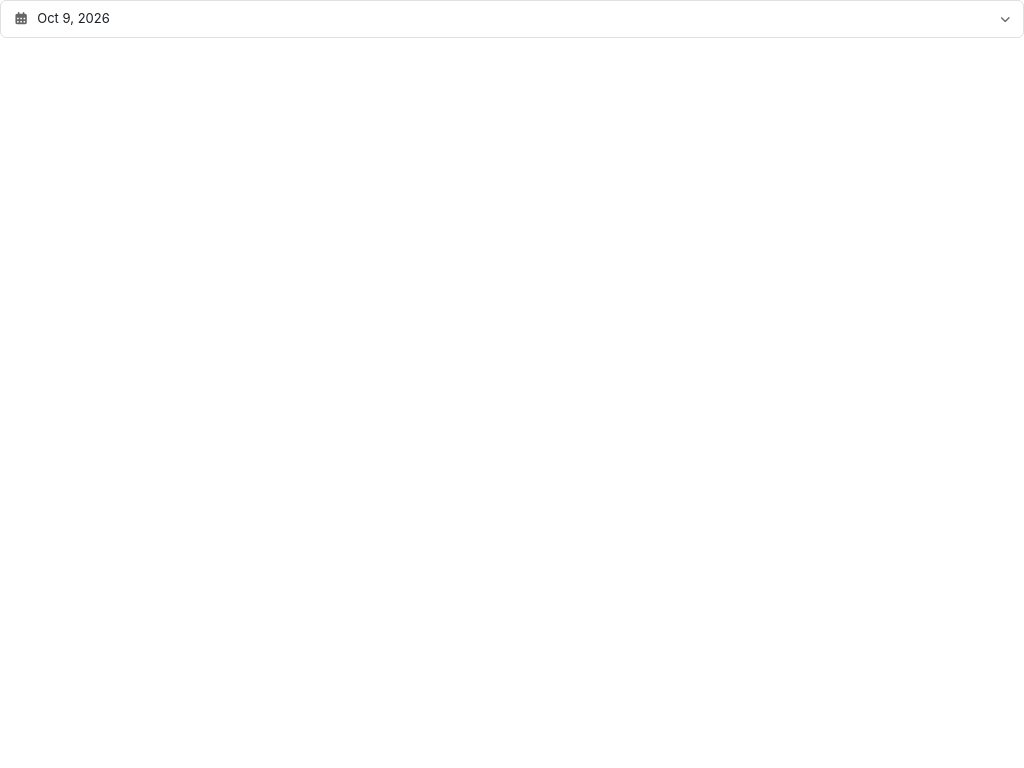
Scenario: DatePicker › emits the picked day as YYYY-MM-DD and closes
Click the button with class "dp-trigger" at [74, 18], box [0,0,1023,38]
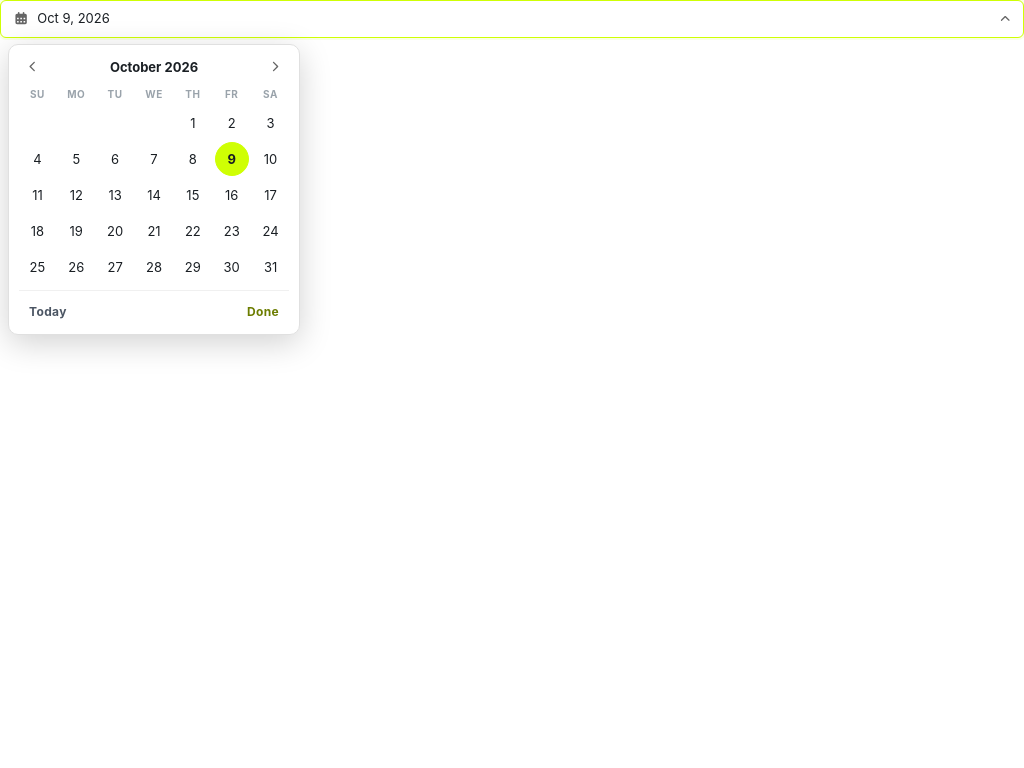
Click the button "15" at [193, 195], box [176,178,210,212]
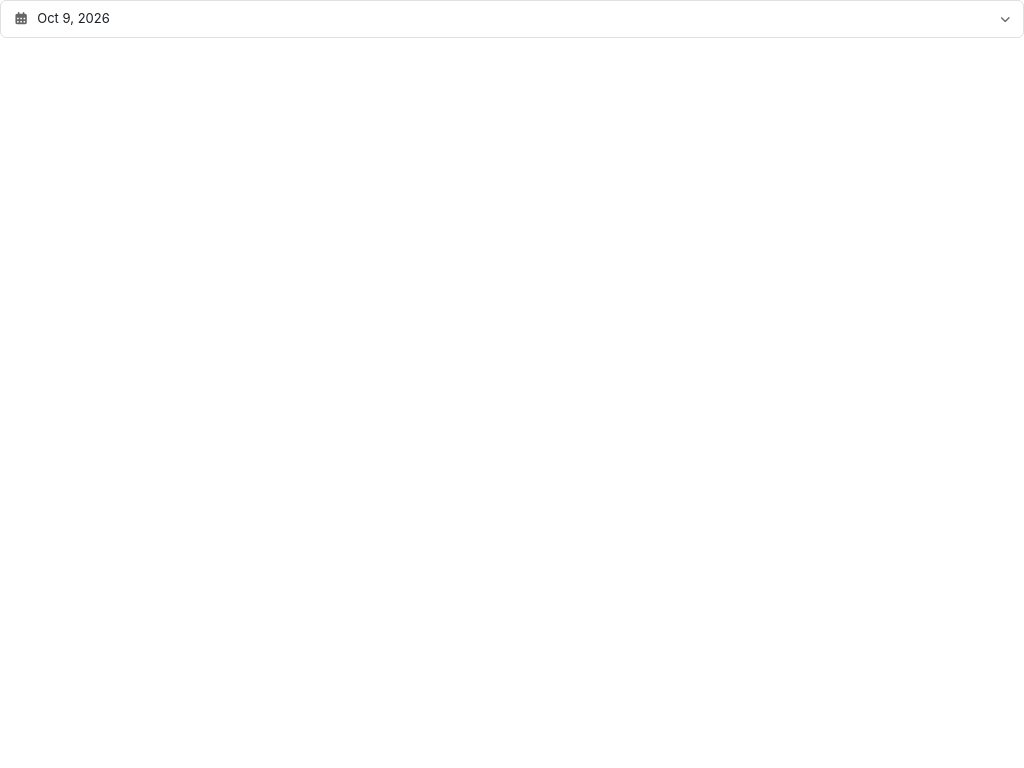
Result: the dialog with class "dp-panel" is gone
